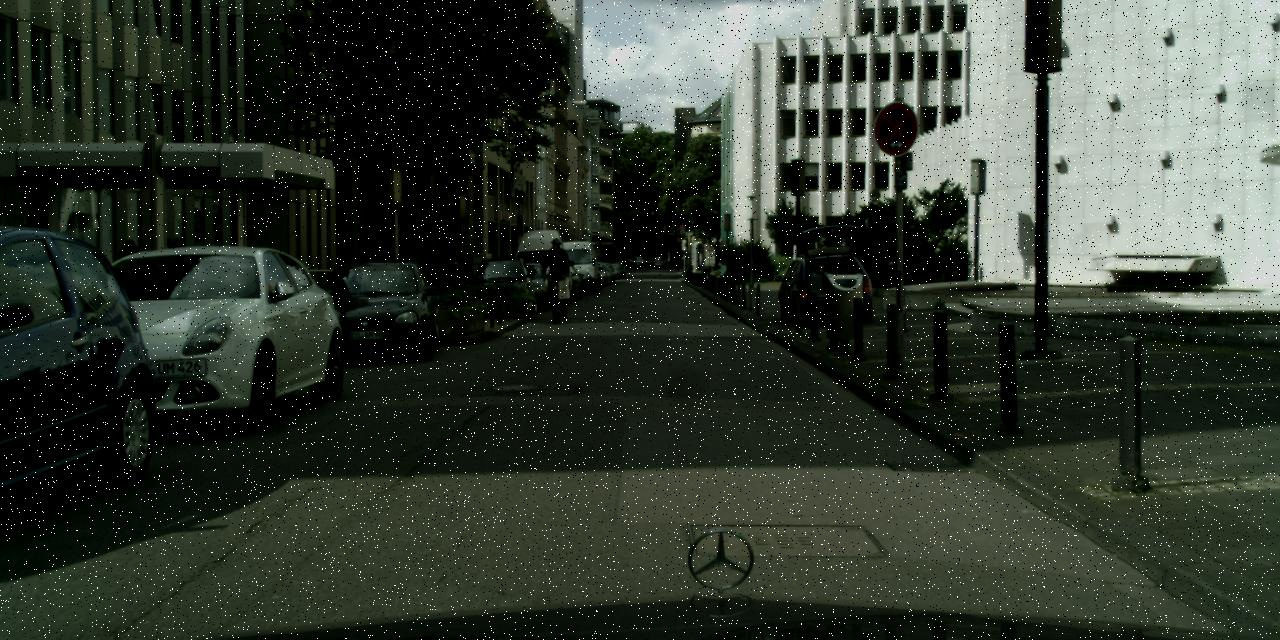ped: (110, 239, 150, 337), (147, 238, 186, 333), (541, 238, 571, 312)
